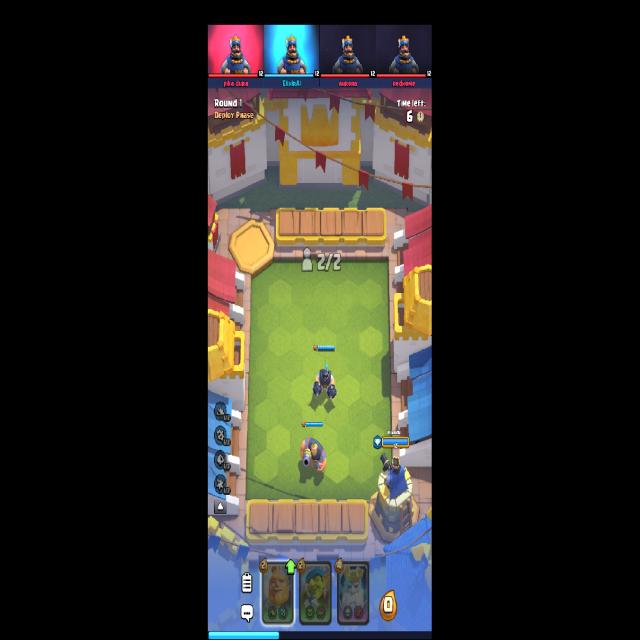card_royal_ghost: (336, 560, 371, 627)
card_royal_giant: (261, 560, 294, 626)
card_spear_goblin: (300, 559, 332, 626)
mega_knight: (314, 363, 338, 403)
royal_giant: (299, 438, 327, 474)
